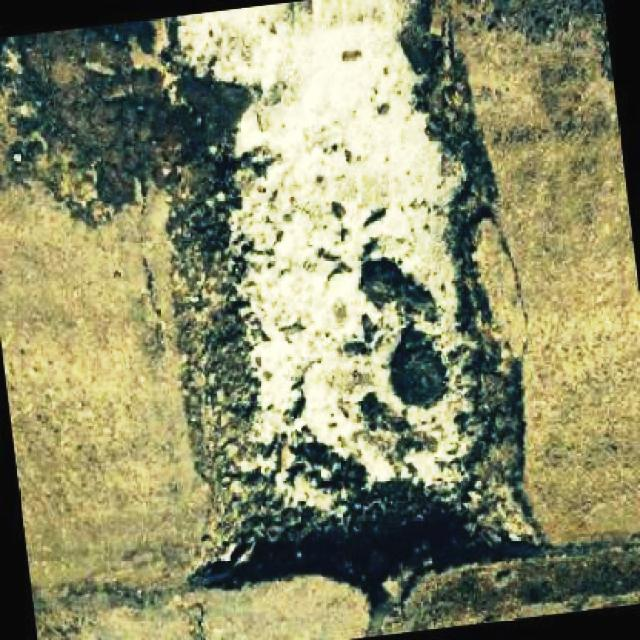pothole: (137, 0, 558, 626)
